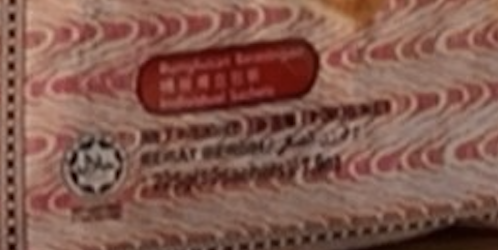halal: (74, 148, 117, 178)
